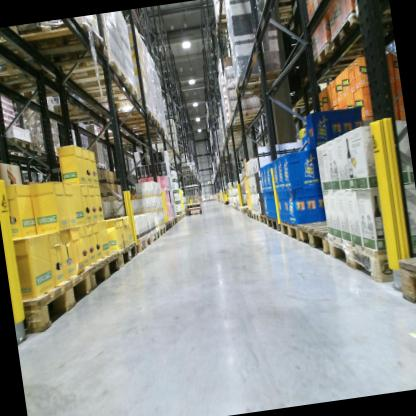pallet: (325, 217, 416, 293), (18, 269, 97, 335), (16, 18, 110, 71), (307, 36, 393, 79), (329, 5, 387, 52), (62, 55, 129, 95), (0, 25, 38, 79), (48, 94, 112, 125), (255, 4, 310, 40), (296, 217, 339, 261), (231, 69, 290, 98), (79, 79, 139, 107), (82, 250, 123, 290), (396, 254, 416, 311), (111, 105, 157, 129), (109, 239, 141, 269), (228, 109, 267, 126), (279, 216, 301, 245), (127, 124, 166, 140), (128, 116, 162, 134), (213, 11, 234, 38), (4, 136, 32, 154), (133, 233, 154, 251), (141, 132, 170, 144), (266, 213, 281, 233), (163, 144, 180, 157), (148, 226, 161, 242), (259, 211, 270, 227), (157, 223, 167, 238), (251, 209, 261, 222), (164, 220, 172, 232), (246, 207, 253, 220), (240, 205, 249, 215), (172, 216, 179, 226), (169, 217, 175, 227), (176, 214, 181, 222), (178, 213, 183, 221), (182, 211, 186, 218)
